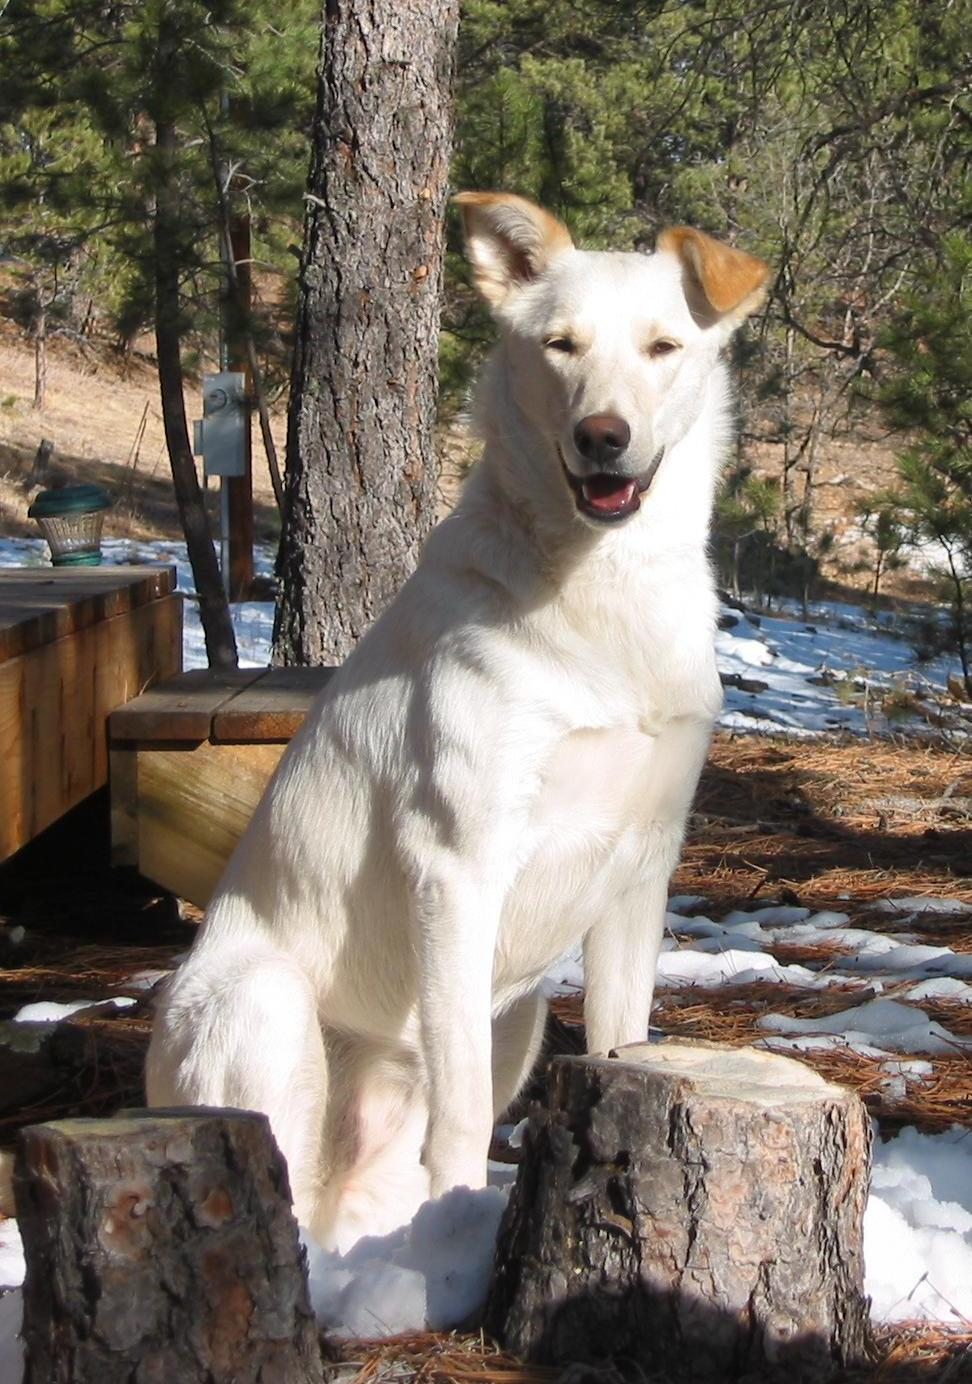dog: (142, 190, 753, 1207)
